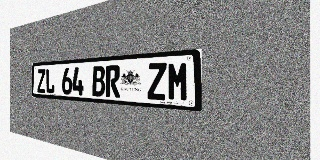4: (72, 67, 83, 95)
6: (62, 67, 72, 95)
B: (92, 66, 105, 97)
L: (46, 68, 54, 94)
M: (167, 61, 189, 102)
R: (106, 65, 120, 98)
Z: (147, 62, 167, 100), (37, 69, 45, 93)
